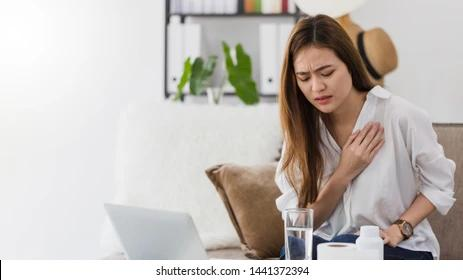pain: (287, 61, 340, 86)
